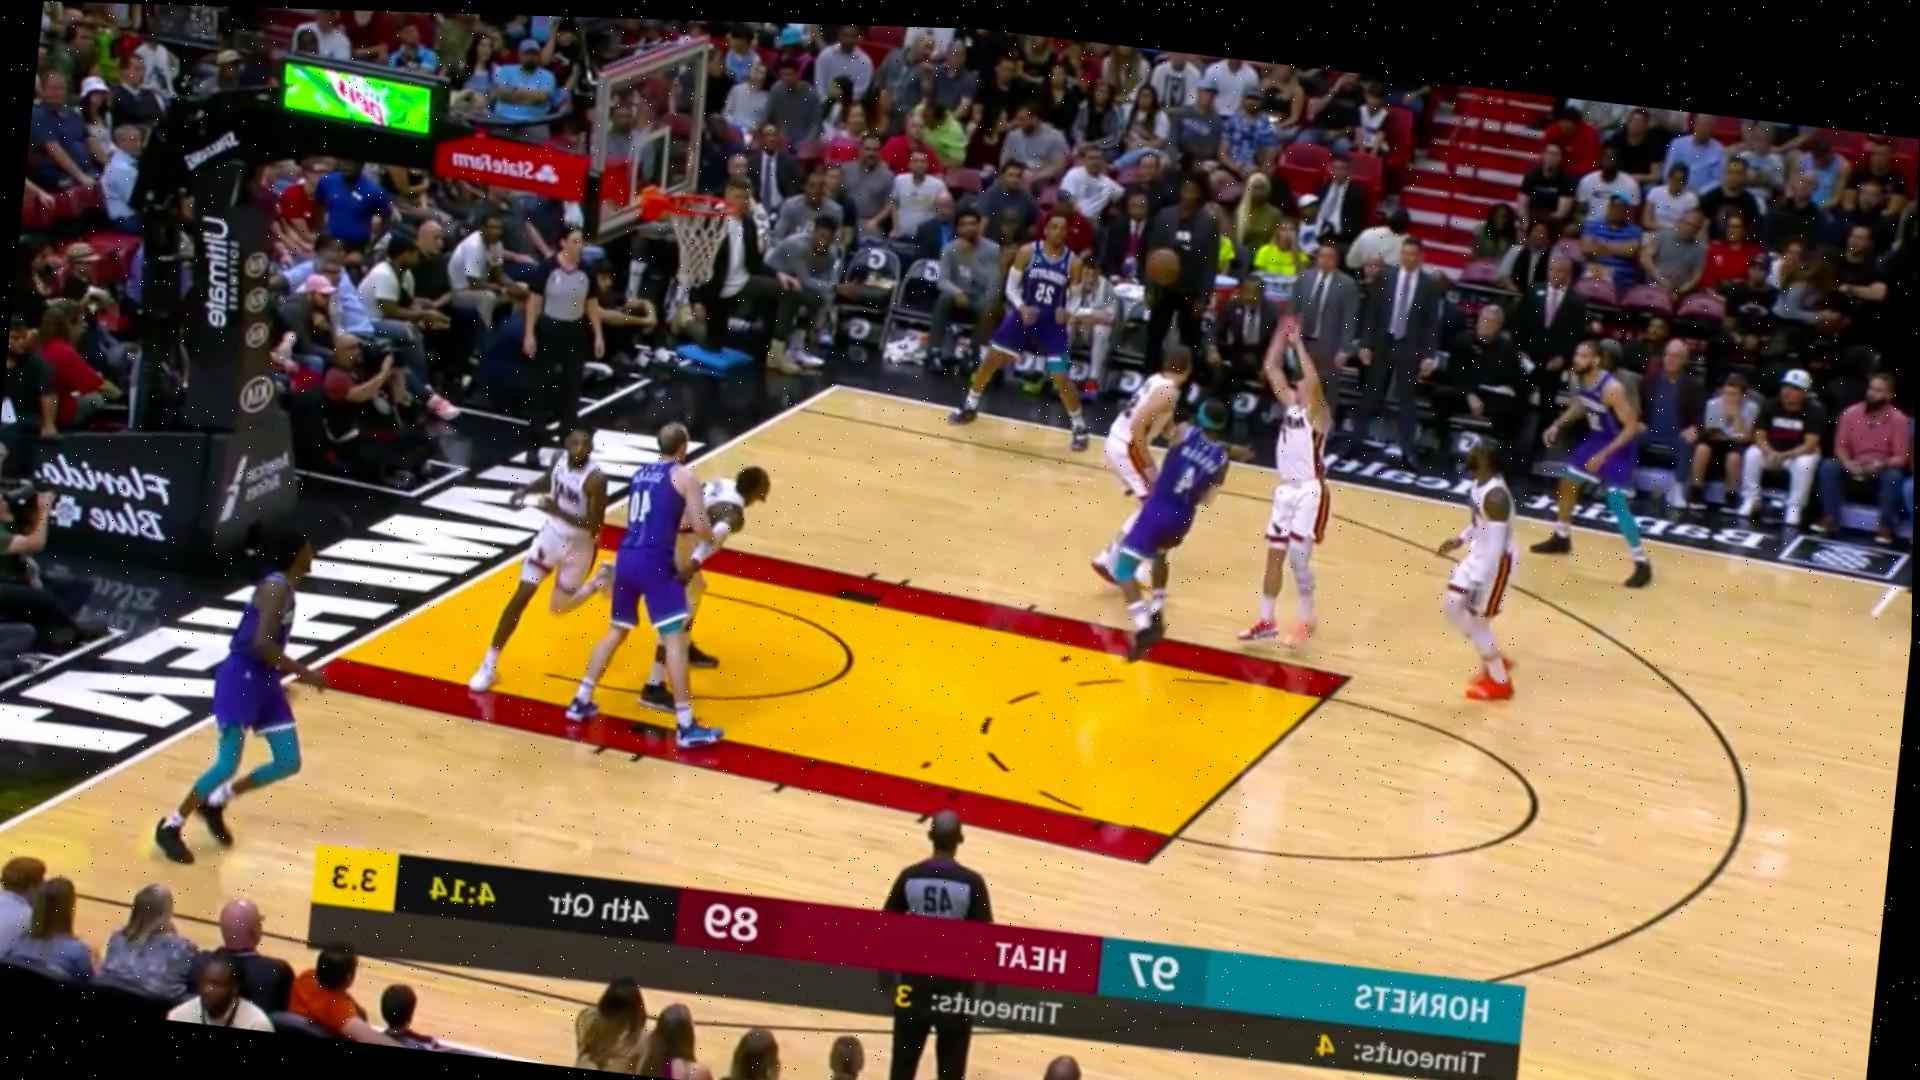no_foul: (512, 409, 781, 735)
